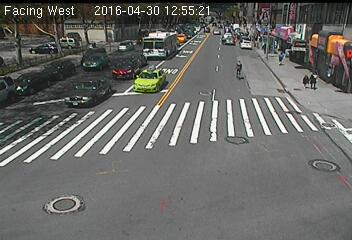neg: (68, 151, 96, 188), (142, 112, 168, 148), (44, 41, 69, 75), (267, 175, 291, 206), (122, 42, 145, 73), (250, 116, 273, 146), (268, 86, 290, 115), (38, 100, 59, 128), (163, 176, 183, 203), (74, 80, 92, 103), (230, 56, 247, 79), (216, 134, 233, 156), (272, 41, 288, 63), (328, 38, 341, 55), (319, 154, 332, 171)
pos: (309, 69, 324, 89), (298, 71, 312, 90)
